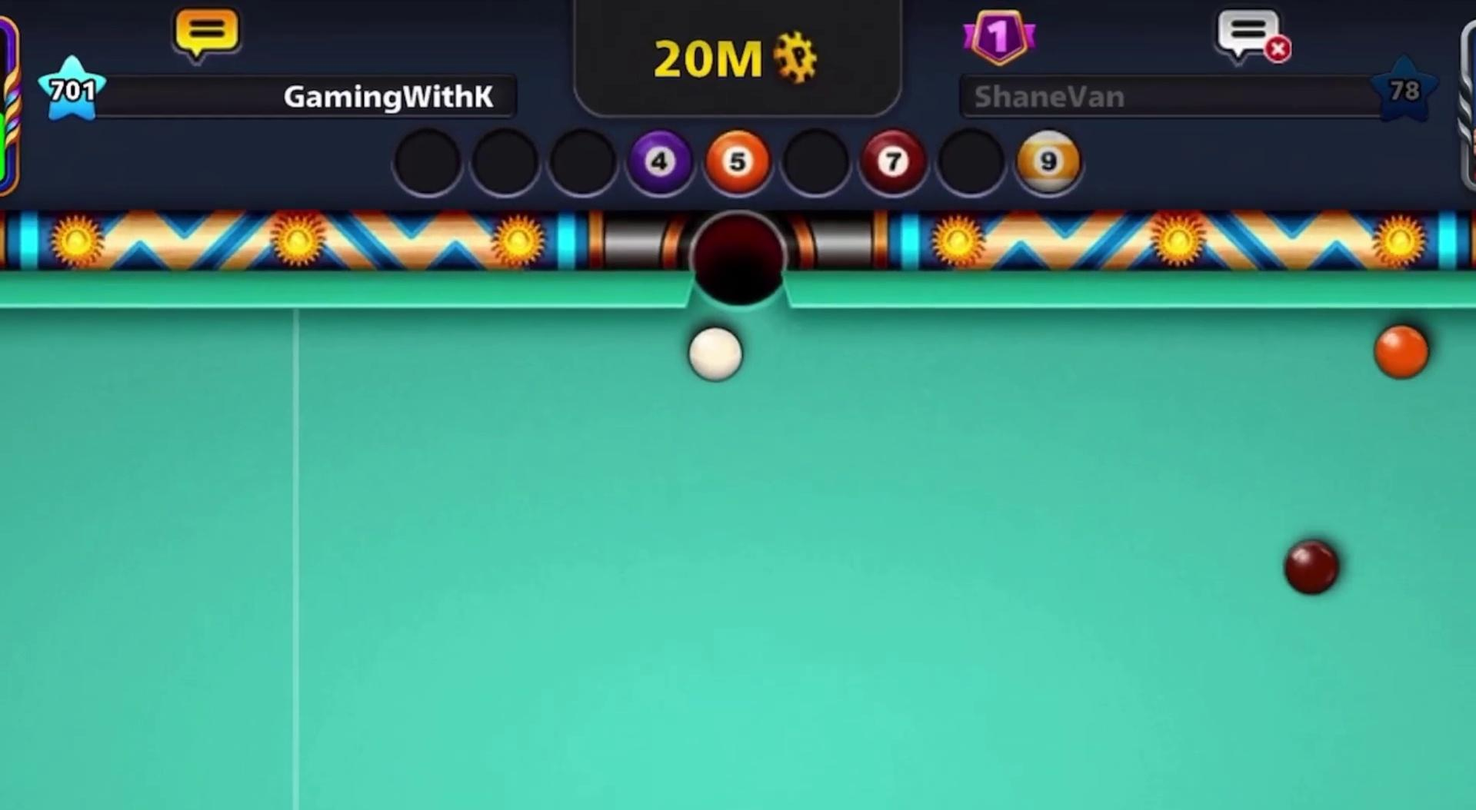Ball: (1275, 530, 1351, 603), (1364, 319, 1438, 385)
Hole: (682, 195, 793, 330)
White: (680, 321, 751, 390)
